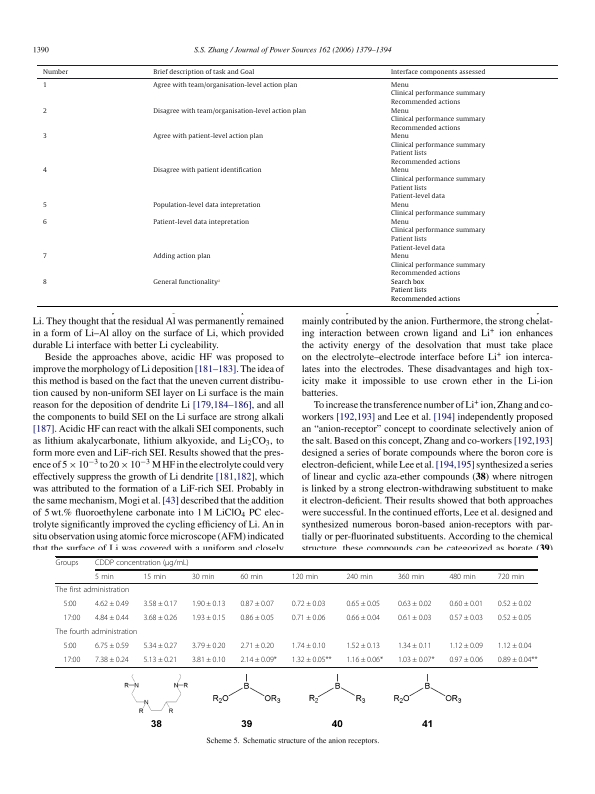borderless: (36, 64, 558, 306), (54, 555, 538, 667)
cell: (389, 133, 485, 167), (389, 167, 485, 201), (389, 219, 485, 253), (389, 107, 485, 133), (389, 82, 485, 107), (389, 253, 485, 278), (389, 279, 461, 304), (389, 201, 485, 218), (152, 107, 306, 116), (152, 82, 298, 90), (152, 167, 262, 176), (152, 201, 261, 210), (152, 68, 255, 77), (152, 133, 263, 141), (389, 68, 486, 77), (94, 559, 190, 568), (55, 627, 138, 637), (152, 219, 249, 227), (55, 585, 130, 595), (152, 278, 221, 287), (152, 253, 211, 261), (291, 655, 332, 665), (497, 655, 538, 665), (239, 655, 278, 665), (345, 655, 384, 665), (397, 655, 435, 665), (94, 599, 130, 609), (142, 599, 178, 609), (239, 599, 275, 609), (345, 599, 381, 609), (448, 599, 484, 609), (94, 613, 130, 623), (142, 613, 178, 623), (239, 613, 275, 623), (345, 613, 381, 623), (448, 613, 484, 623), (94, 641, 130, 651), (142, 641, 178, 651), (239, 641, 275, 651), (345, 641, 381, 651), (448, 641, 484, 651), (94, 655, 130, 665), (142, 655, 178, 665), (448, 655, 484, 665), (191, 599, 226, 609), (291, 599, 326, 609), (397, 599, 432, 609), (497, 599, 532, 609), (191, 613, 226, 623), (291, 613, 326, 623), (397, 613, 432, 623), (497, 613, 532, 623), (191, 641, 226, 651), (291, 641, 326, 651), (397, 641, 432, 651), (497, 641, 532, 651), (191, 655, 226, 665), (345, 572, 374, 581), (448, 572, 477, 581), (291, 572, 319, 581), (397, 572, 425, 581), (497, 572, 525, 581), (41, 68, 69, 77), (142, 572, 167, 581), (239, 572, 264, 581), (55, 559, 79, 568), (191, 572, 215, 581), (62, 613, 81, 623), (62, 655, 81, 665), (94, 572, 115, 581), (62, 599, 77, 609), (62, 641, 77, 651), (41, 107, 47, 116), (41, 167, 47, 176), (41, 201, 47, 210), (41, 82, 47, 90), (41, 133, 47, 141), (41, 219, 47, 227), (41, 253, 47, 261), (41, 279, 47, 287)
